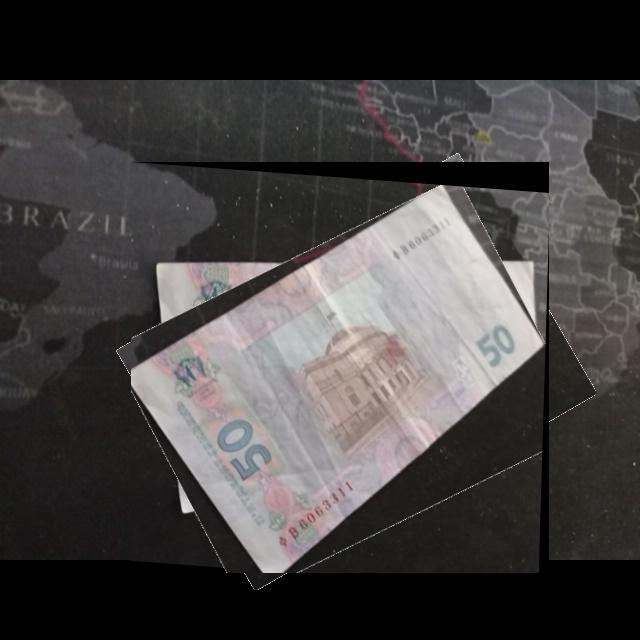50uah: (131, 180, 547, 574)
